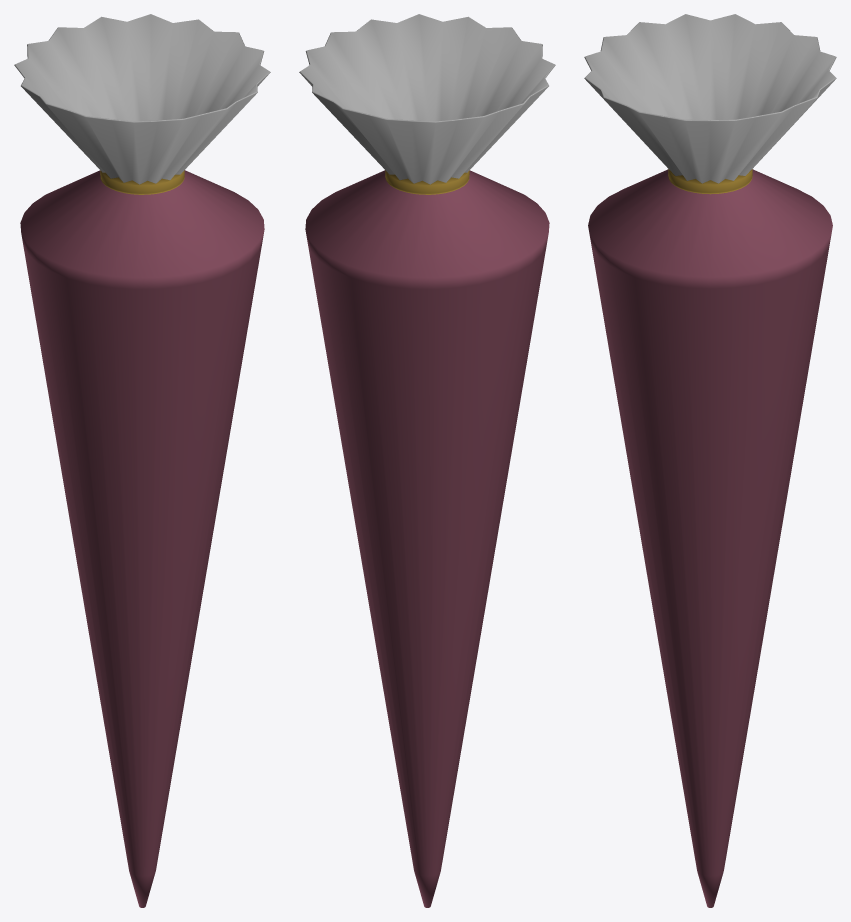
File: piping bag strawberry.fbx
3 views of the same model, side by side, from view 1: azimuth 30°, elevation 25°; view 2: azimuth 150°, elevation 25°; view 3: azimuth 270°, elevation 25° (orthographic).
Visible parts, largest first — view 1: Cylinder; view 2: Cylinder; view 3: Cylinder.
Part boxes in pixels (x1=…): Cylinder: x1=14, y1=14, x2=270, y2=907; Cylinder: x1=299, y1=14, x2=555, y2=907; Cylinder: x1=584, y1=14, x2=836, y2=907.
Bounding box in the file's own units: 114 × 417 × 114.
